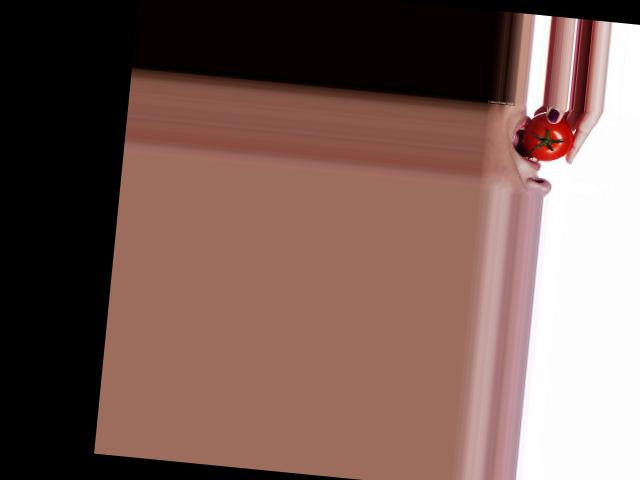tomato: (522, 109, 576, 163)
